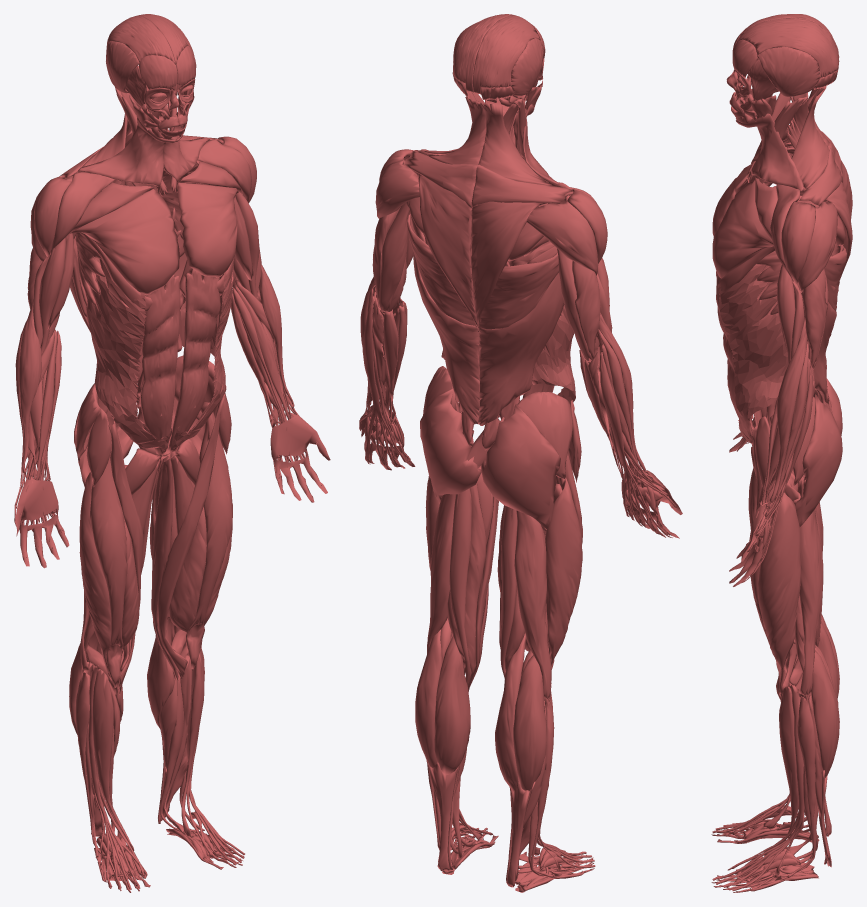
File: muscles.glb
3 views of the same model, side by side, from view 1: azimuth 30°, elevation 25°; view 2: azimuth 150°, elevation 25°; view 3: azimuth 270°, elevation 25° (orthographic). The views are drawn at different scales.
Parts seen in each view (by area): view 1: External abdominal oblique muscle.r, Sternocostal head of pectoralis major muscle.r, Rectus abdominis muscle.r, Sternocostal head of pectoralis major muscle.l, Rectus abdominis muscle.l, Rectus femoris muscle.r, Rectus femoris muscle.l, Sartorius muscle.l, Vastus lateralis muscle.r, Platysma.r, Palmar aponeurosis.l, Palmar aponeurosis.r (+50 smaller); view 2: Latissimus dorsi muscle.r, Gluteus maximus muscle.r, Latissimus dorsi muscle.l, Vastus lateralis muscle.r, Descending part of trapezius muscle.l, Long head of biceps femoris.r, Descending part of trapezius muscle.r, Gluteus maximus muscle.l, Medial head of gastrocnemius.l, Lateral head of gastrocnemius.r, Epicranial aponeurosis.r, Scapular spinal part of deltoid muscle.r (+35 smaller); view 3: External abdominal oblique muscle.l, Vastus lateralis muscle.l, Sternocostal head of pectoralis major muscle.l, Gluteus maximus muscle.l, Long head of biceps femoris.l, Epicranial aponeurosis.l, Temporoparietalis muscle.l, Lateral head of gastrocnemius.l, Platysma.l, Brachioradialis muscle.l, Acromial part of deltoid muscle.l, Scapular spinal part of deltoid muscle.l (+44 smaller).
Boxes of the visible parts, x1,y1,x2,y2 form: External abdominal oblique muscle.r: (86, 259, 171, 450); Sternocostal head of pectoralis major muscle.r: (69, 189, 179, 295); Rectus abdominis muscle.r: (141, 274, 180, 454); Sternocostal head of pectoralis major muscle.l: (177, 182, 238, 277); Rectus abdominis muscle.l: (168, 269, 220, 452); Rectus femoris muscle.r: (90, 438, 127, 687); Rectus femoris muscle.l: (186, 402, 232, 669); Sartorius muscle.l: (157, 394, 224, 678); Vastus lateralis muscle.r: (79, 472, 111, 680); Platysma.r: (78, 117, 175, 186); Palmar aponeurosis.l: (270, 414, 330, 502); Palmar aponeurosis.r: (15, 479, 69, 568); Latissimus dorsi muscle.r: (478, 253, 564, 425); Gluteus maximus muscle.r: (481, 404, 560, 529); Latissimus dorsi muscle.l: (407, 214, 479, 424); Vastus lateralis muscle.r: (545, 477, 582, 665); Descending part of trapezius muscle.l: (417, 173, 478, 327); Long head of biceps femoris.r: (514, 510, 551, 699); Descending part of trapezius muscle.r: (471, 201, 546, 328); Gluteus maximus muscle.l: (420, 388, 481, 502); Medial head of gastrocnemius.l: (434, 636, 470, 775); Lateral head of gastrocnemius.r: (513, 655, 546, 790); Epicranial aponeurosis.r: (472, 15, 540, 94); Scapular spinal part of deltoid muscle.r: (527, 201, 598, 275); External abdominal oblique muscle.l: (718, 264, 788, 443); Vastus lateralis muscle.l: (758, 492, 800, 693); Sternocostal head of pectoralis major muscle.l: (712, 180, 773, 278); Gluteus maximus muscle.l: (795, 394, 842, 526); Long head of biceps femoris.l: (799, 509, 823, 696); Epicranial aponeurosis.l: (736, 18, 839, 78); Temporoparietalis muscle.l: (757, 46, 819, 96); Lateral head of gastrocnemius.l: (811, 650, 839, 777); Platysma.l: (736, 113, 803, 191); Brachioradialis muscle.l: (769, 316, 807, 503); Acromial part of deltoid muscle.l: (781, 201, 815, 284); Scapular spinal part of deltoid muscle.l: (798, 202, 837, 292).
Size of the model in its own units: 0.6706 by 1.7 by 0.2586.
